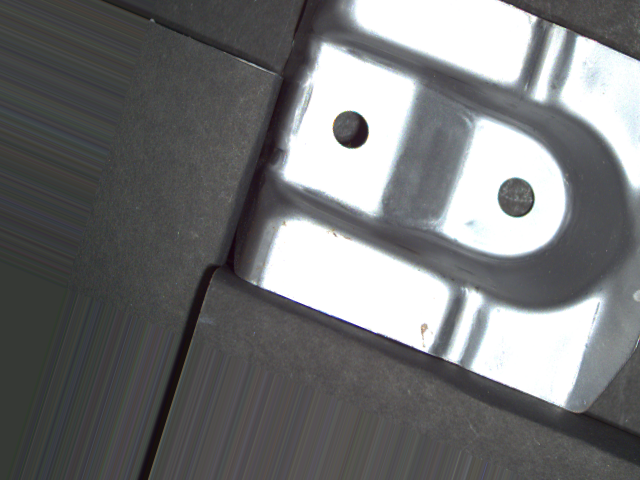defect: (492, 175, 538, 221)
